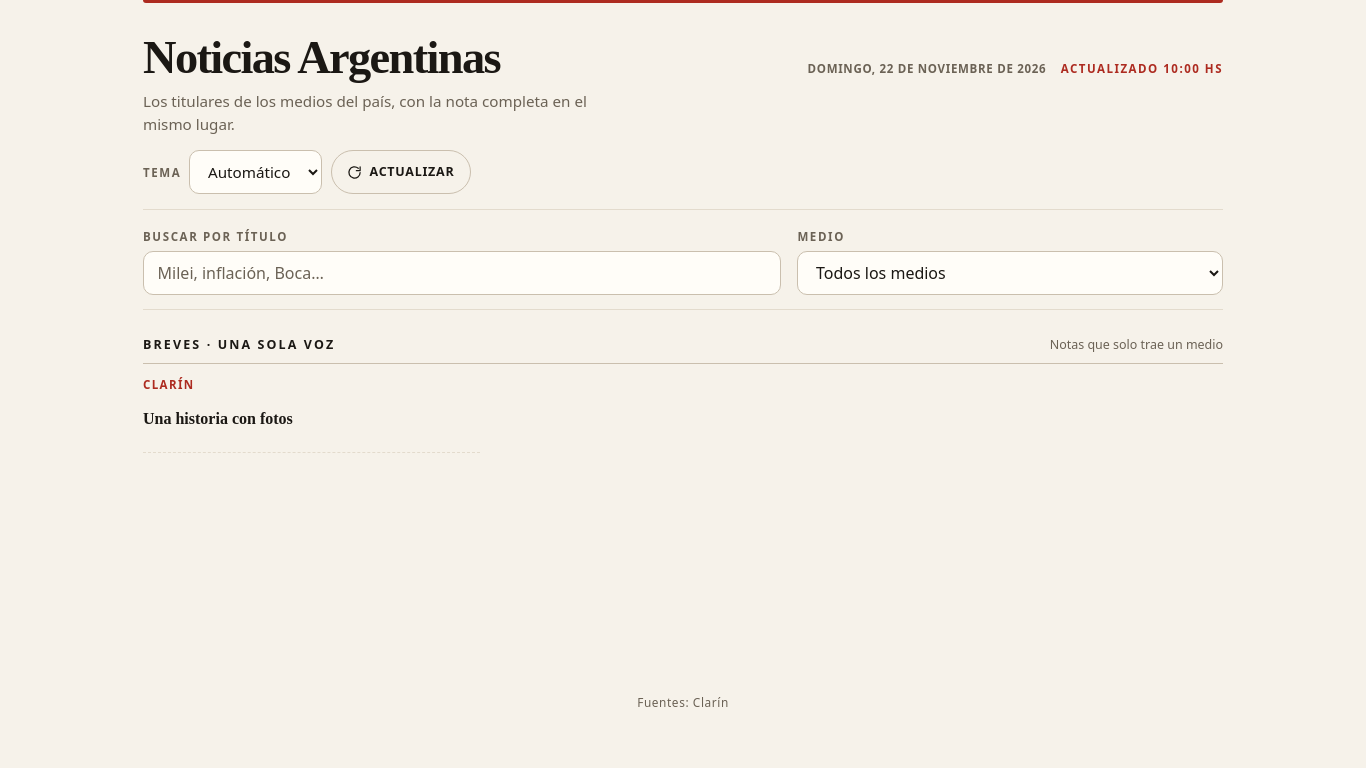
Test case: App media integration › does not show a media control when the article has no media
The image size is (1366, 768).
Click the button "Una historia con fotos" at (218, 419), box [143,397,480,441]
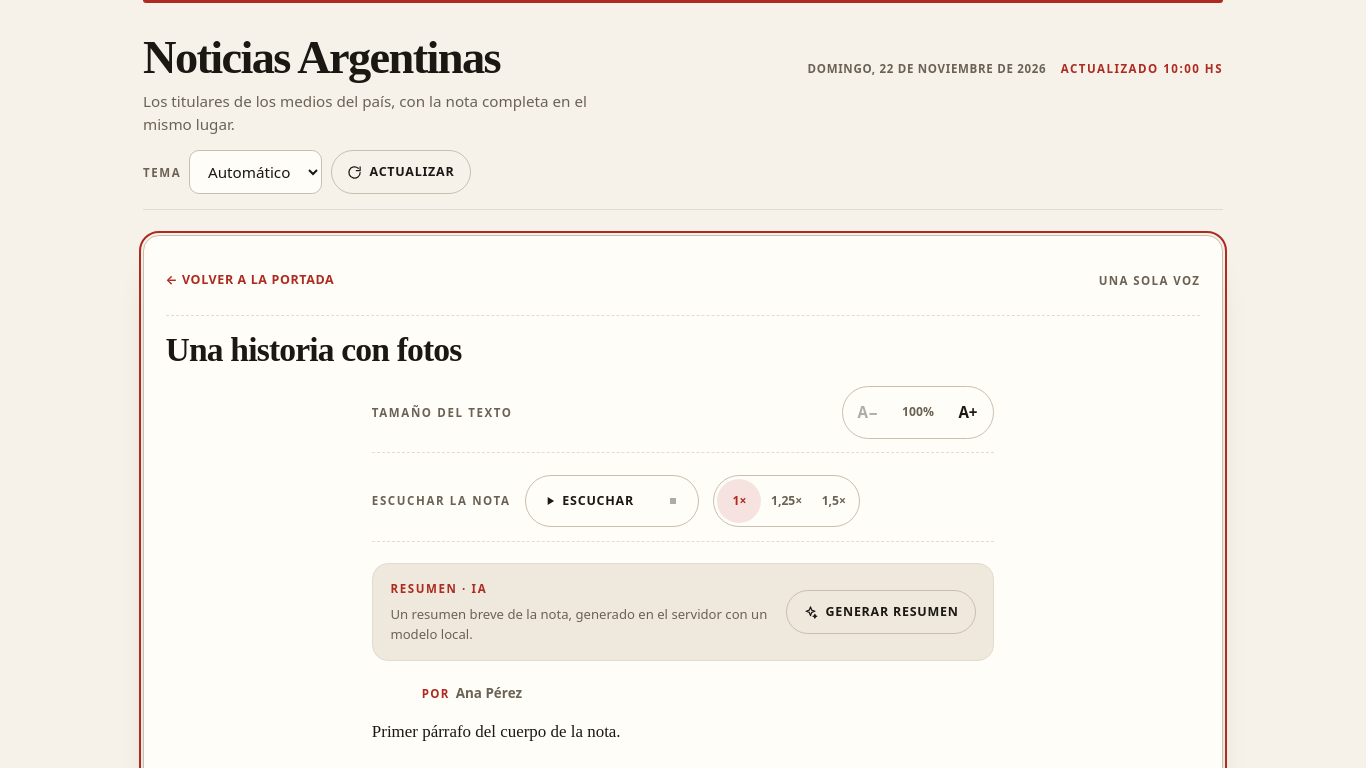
Expected: the text "Primer párrafo del cuerpo de la nota." is shown, [372,722,621,741]
